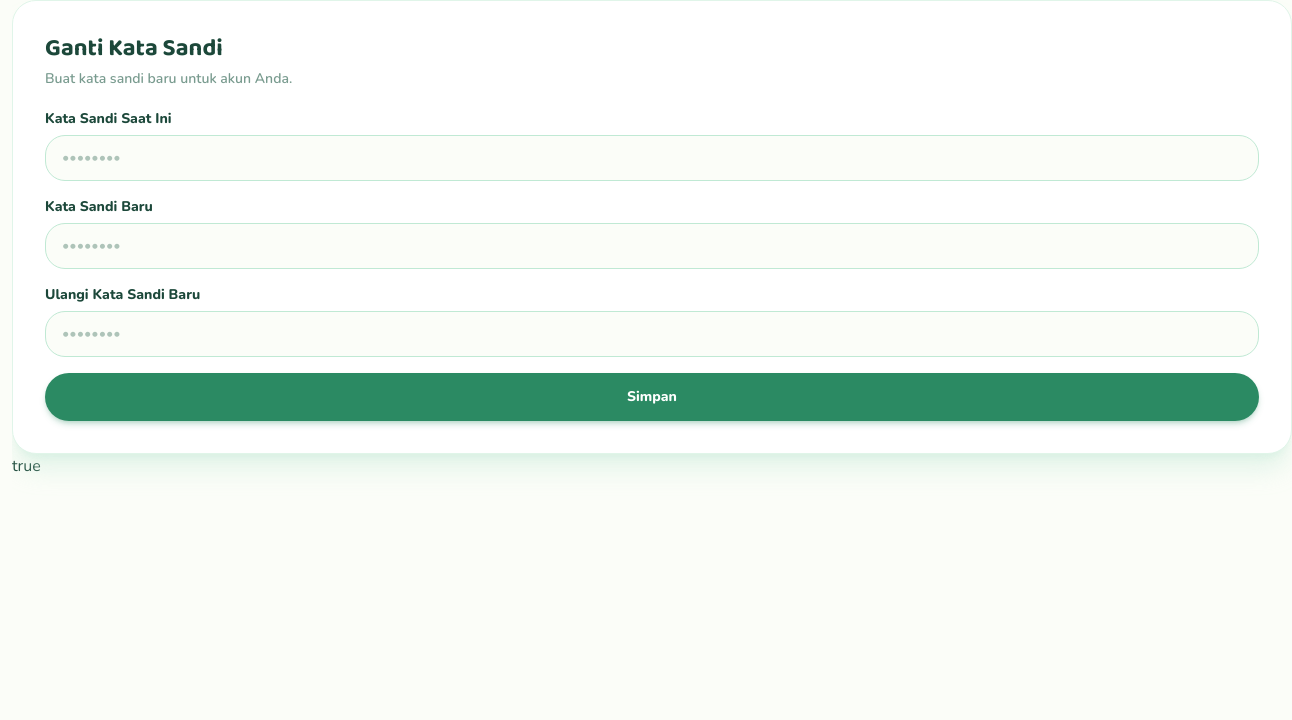
Test case: ChangePassword › shows 'Password baru harus berbeda' verbatim on a same-as-current 422
Type "secret01" into the password field labelled "Kata Sandi Saat Ini".
click(652, 158); type("secret01")  # box left=45, top=135, right=1259, bottom=181
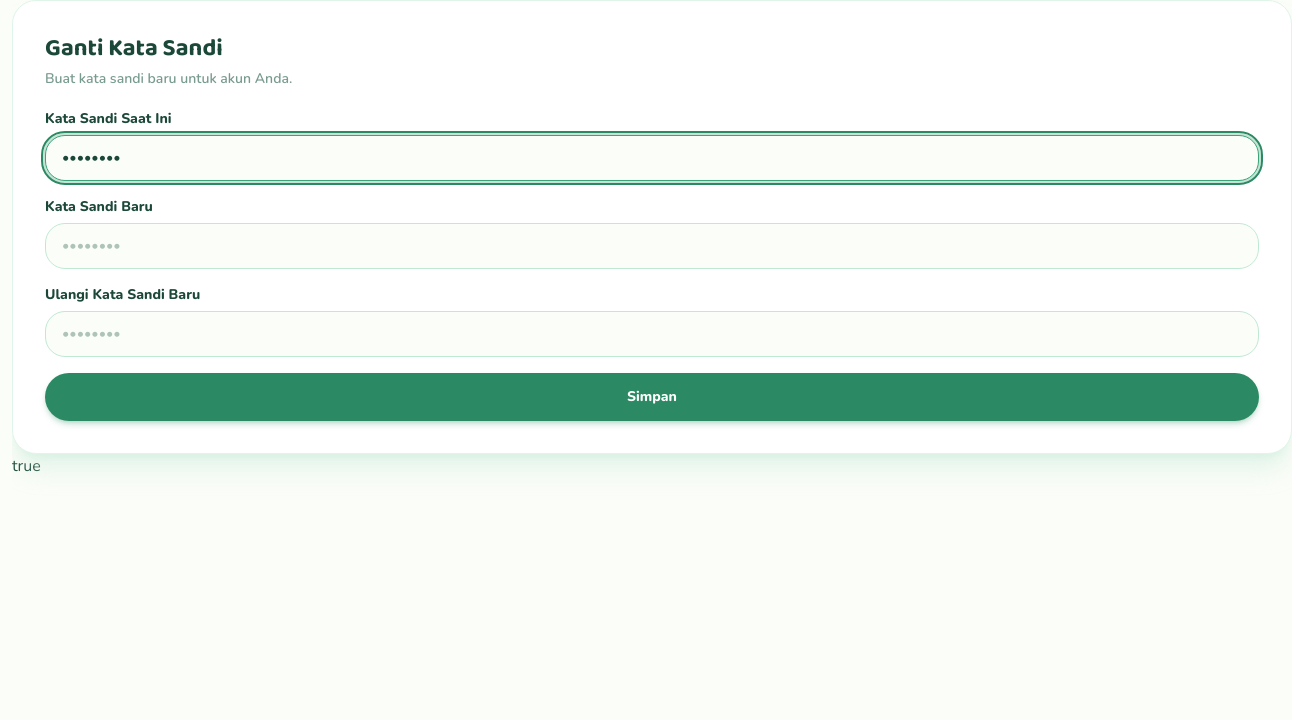
Type "secret01" into the password field labelled "Kata Sandi Baru".
click(652, 246); type("secret01")  # box left=45, top=223, right=1259, bottom=269
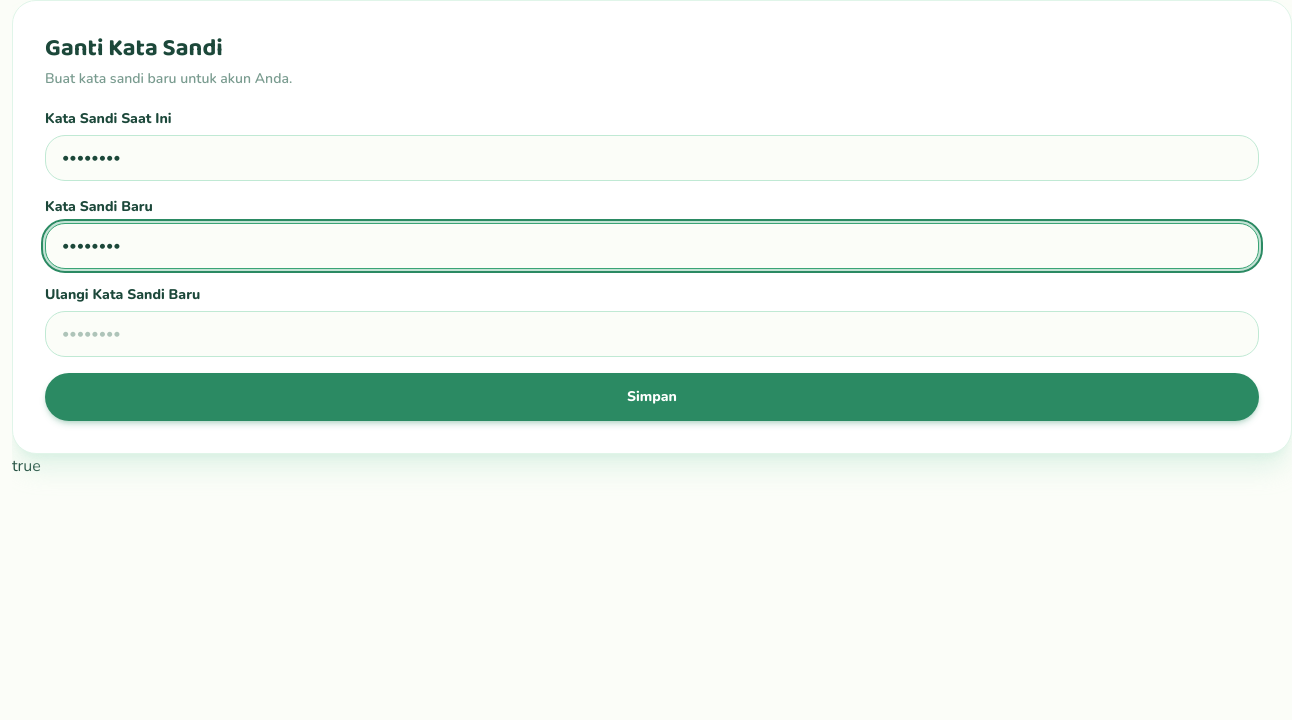
Type "secret01" into the password field labelled "Ulangi Kata Sandi Baru".
click(652, 334); type("secret01")  # box left=45, top=311, right=1259, bottom=357
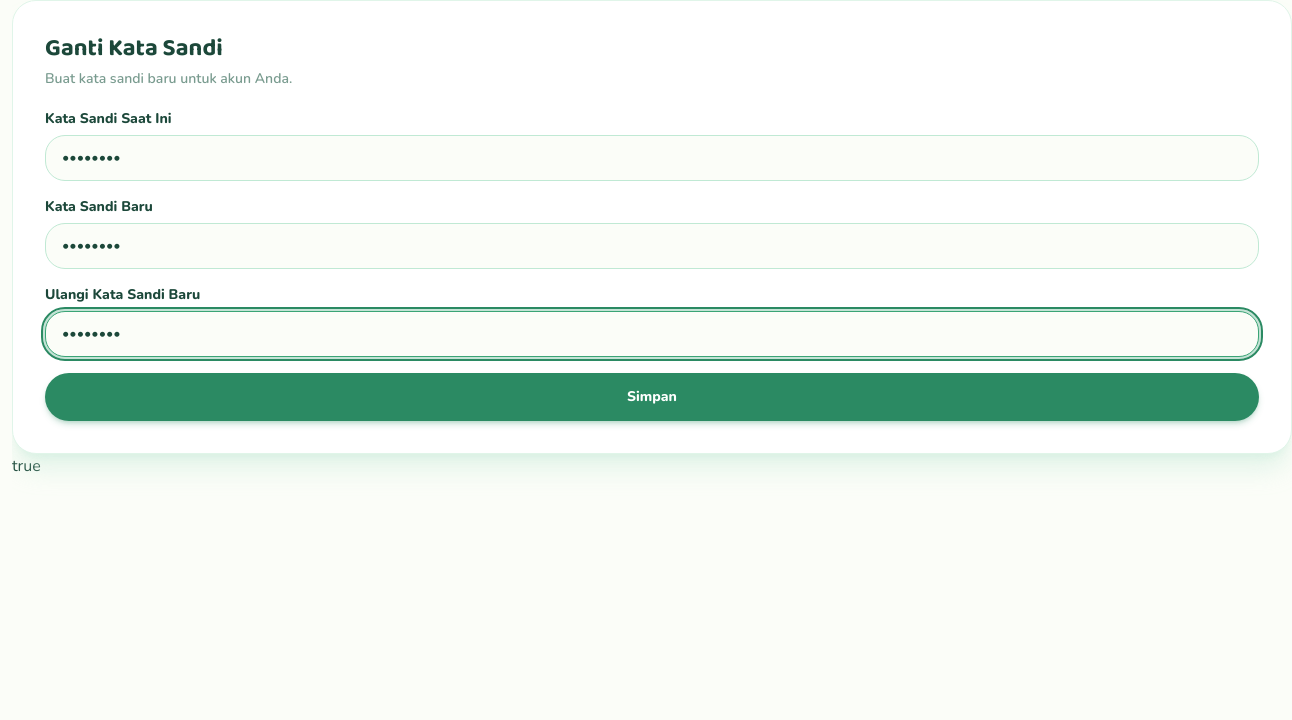
Click the button "Simpan".
click(652, 397)  # box left=45, top=373, right=1259, bottom=421
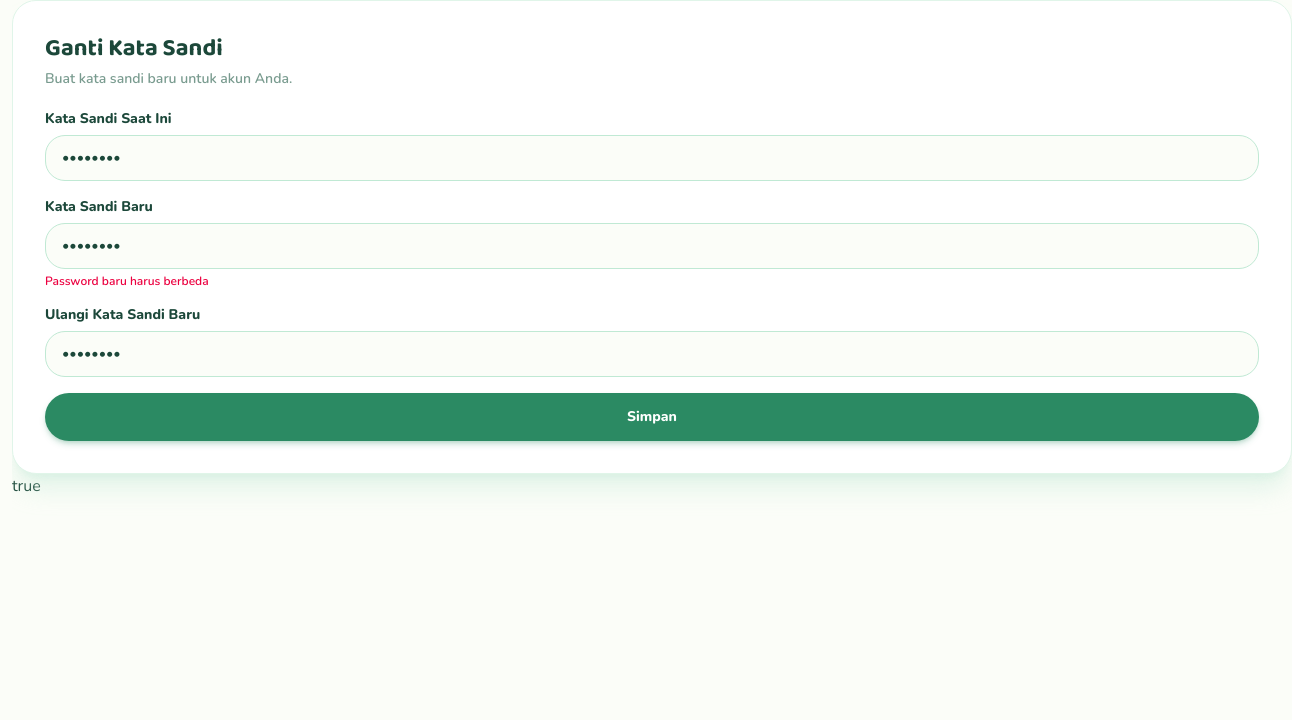
Result: the text "Password baru harus berbeda" is shown at left=45, top=273, right=209, bottom=289
